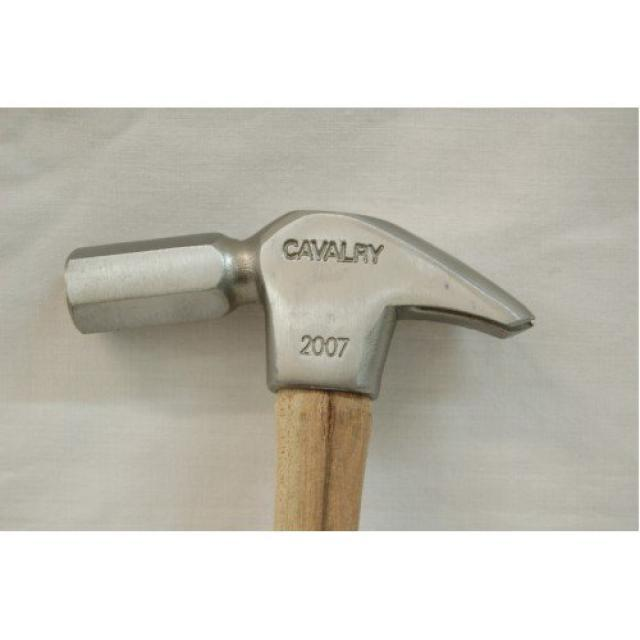hammer: (54, 201, 541, 530)
